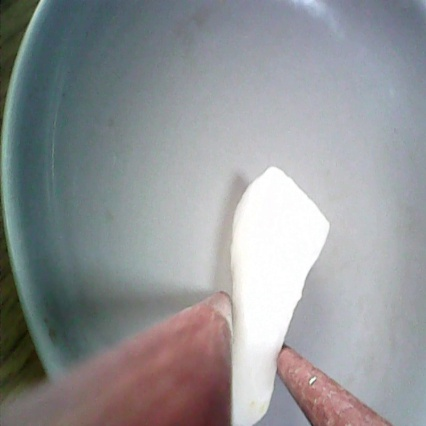white_chinese-yam: (226, 158, 336, 426)
